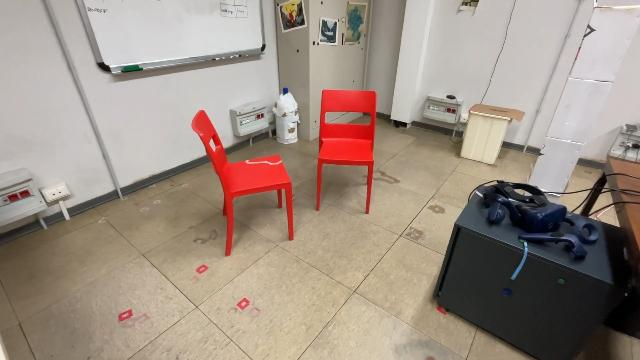Chair: (190, 106, 296, 258), (314, 86, 378, 216)
